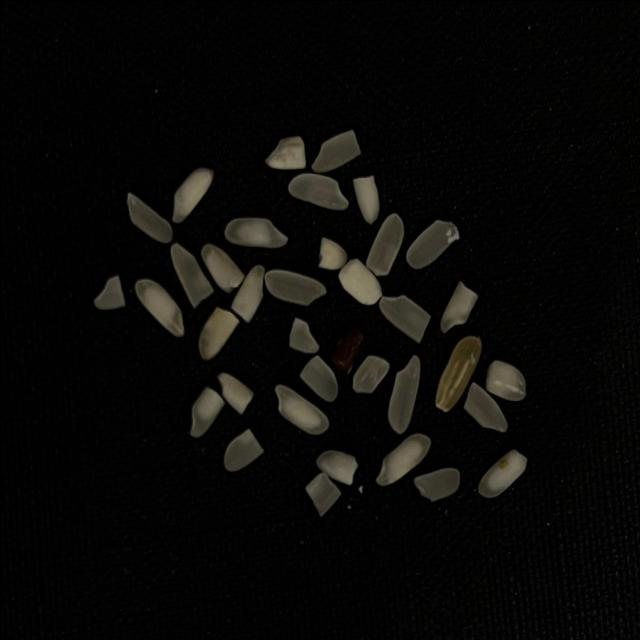Broken: (434, 334, 482, 412), (170, 242, 213, 306), (378, 294, 431, 344), (404, 219, 458, 268), (477, 447, 527, 497), (365, 212, 404, 275), (126, 192, 172, 244), (462, 381, 507, 432), (200, 242, 244, 294), (310, 128, 360, 172), (198, 306, 239, 359), (439, 279, 478, 333), (337, 258, 381, 304), (230, 264, 264, 322), (298, 354, 338, 402), (188, 386, 224, 438), (223, 428, 263, 472), (485, 359, 525, 401), (304, 471, 340, 517), (413, 467, 459, 501), (216, 372, 253, 414), (315, 449, 357, 485), (352, 354, 389, 393), (263, 135, 305, 169), (352, 174, 379, 224), (93, 274, 125, 310), (288, 316, 319, 353), (317, 236, 346, 270)
Full: (375, 432, 431, 486), (273, 383, 329, 435), (134, 278, 184, 336), (387, 354, 420, 433), (286, 172, 348, 210), (264, 268, 326, 306), (172, 166, 214, 222), (223, 217, 288, 248)
